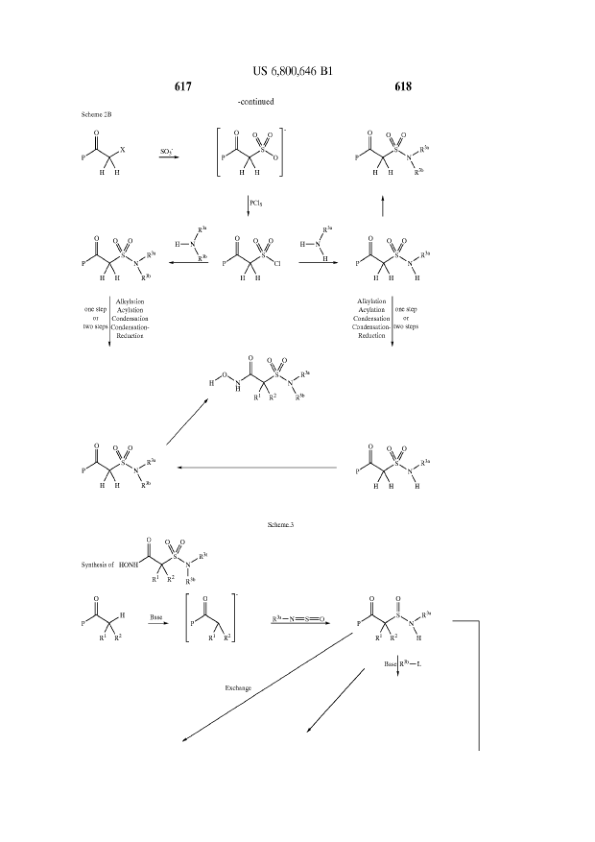compound-structure: (82, 530, 212, 591), (190, 121, 289, 186), (64, 104, 138, 187), (76, 219, 159, 293), (207, 349, 316, 403), (349, 430, 429, 496), (347, 224, 432, 284), (81, 426, 157, 493), (354, 589, 437, 643), (355, 125, 432, 179), (215, 230, 288, 284), (183, 589, 242, 646), (75, 592, 131, 648), (297, 217, 336, 259), (174, 222, 208, 260)
reaction: (42, 89, 458, 512), (47, 524, 507, 769)
reaction-arrow: (170, 657, 370, 747), (344, 290, 417, 347), (171, 457, 341, 481), (84, 297, 152, 348), (164, 397, 216, 449), (264, 613, 335, 630), (382, 652, 419, 679), (237, 194, 265, 220), (154, 140, 177, 166), (375, 190, 395, 215), (165, 259, 210, 269), (143, 613, 171, 627), (292, 259, 342, 265)
